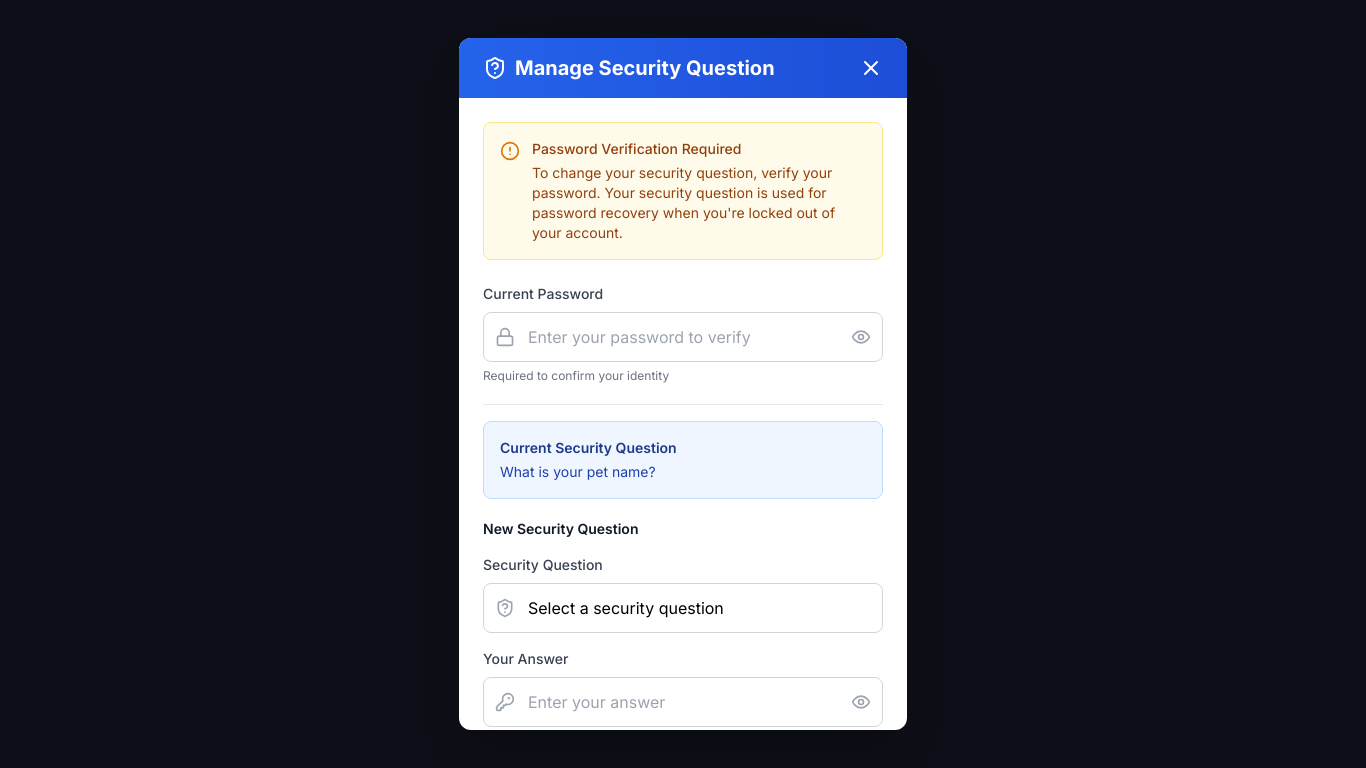
Test: SecurityQuestionModal › shows no question selected error when question not selected
The width and height of the screenshot is (1366, 768).
Type "password123" into the password field with placeholder "Enter your password to verify" at (683, 337), box [483,312,883,362]
(page scrolled)
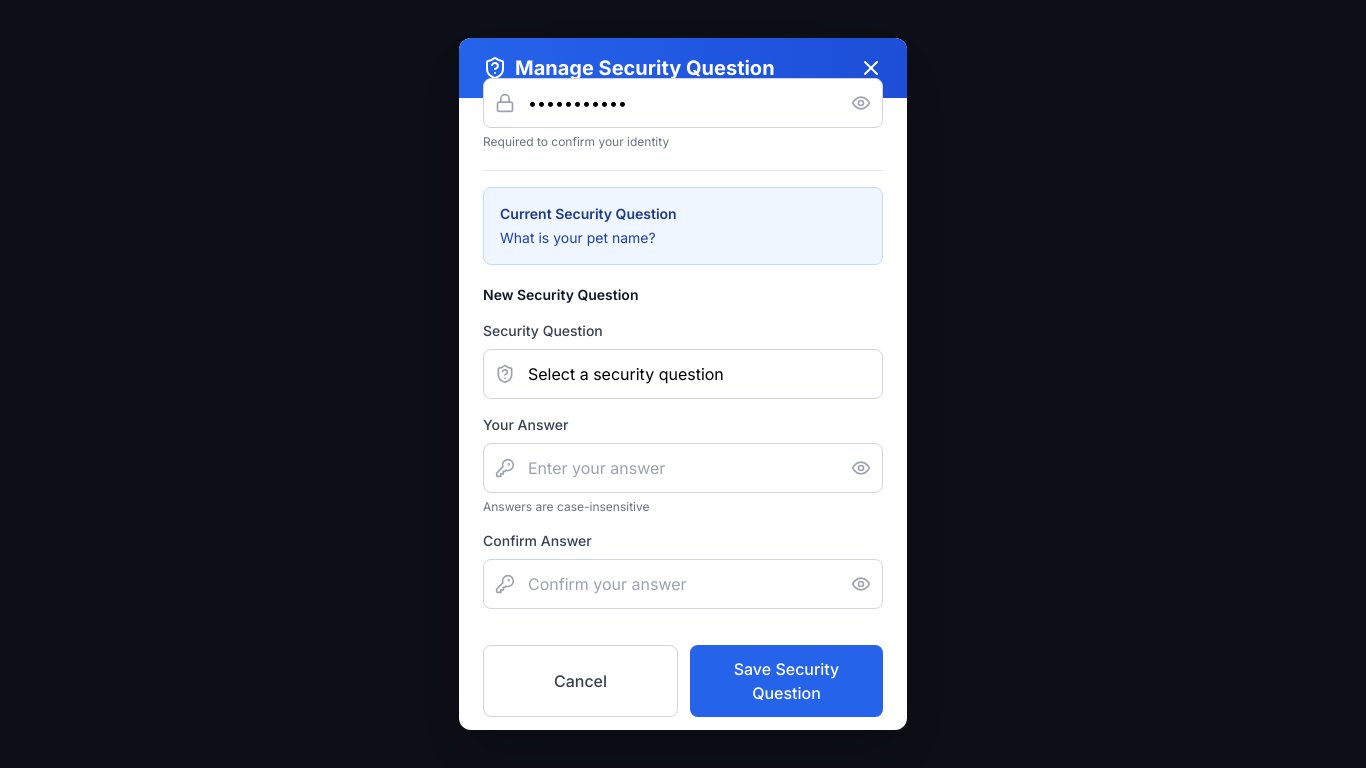
Submit the form, box [483,50,883,717]
(page scrolled)
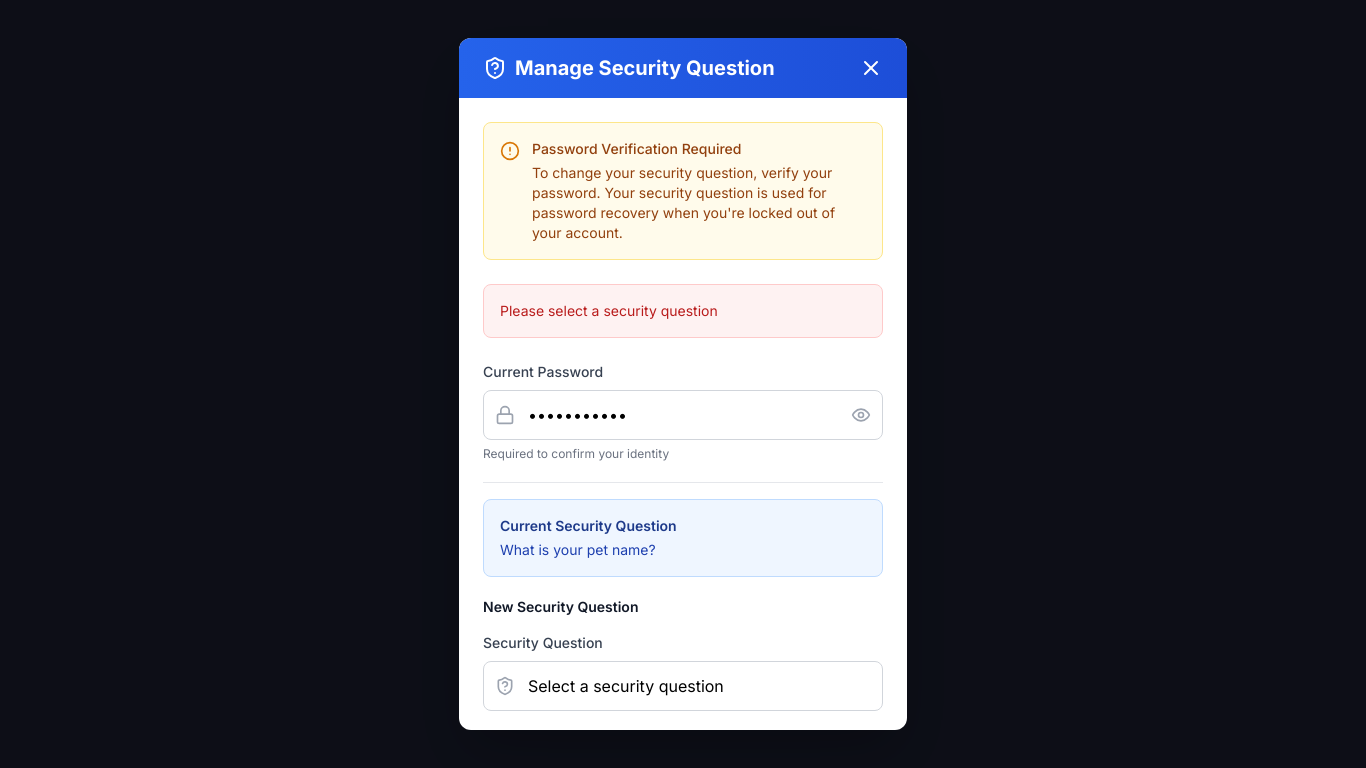
Result: the text "Please select a security question" is shown at [483,284,883,338]
